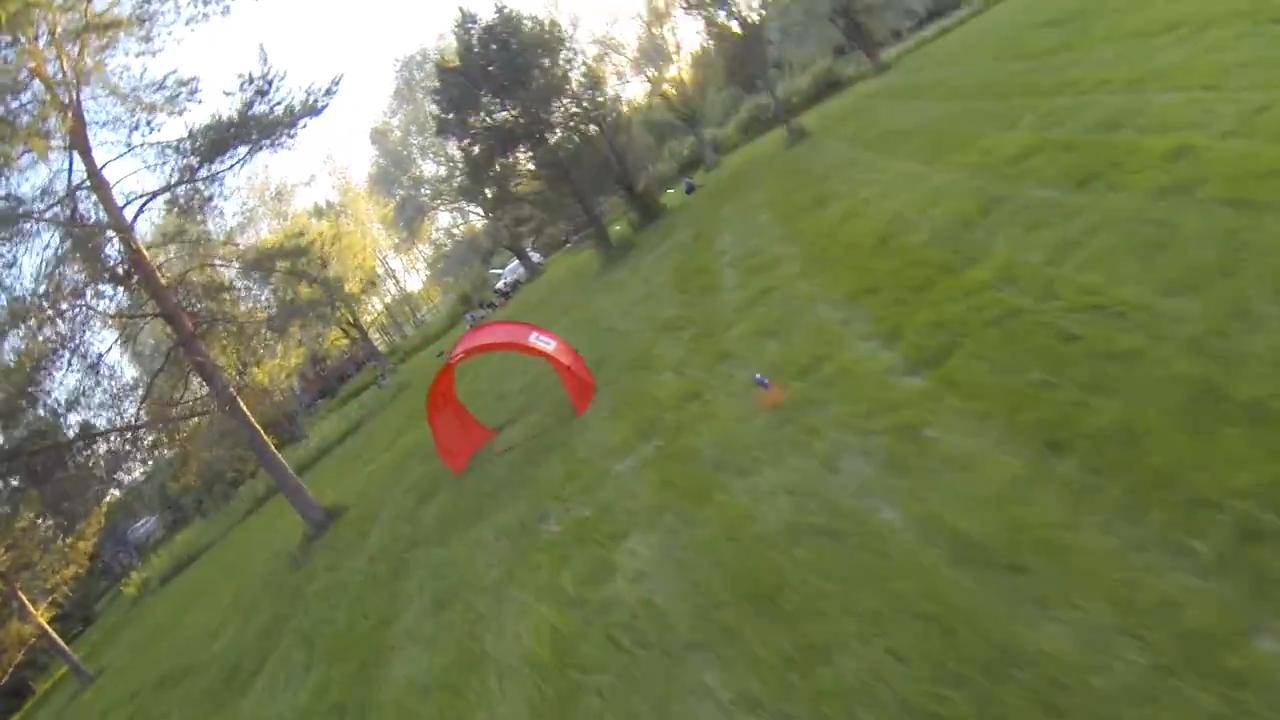gate: (423, 317, 601, 481)
